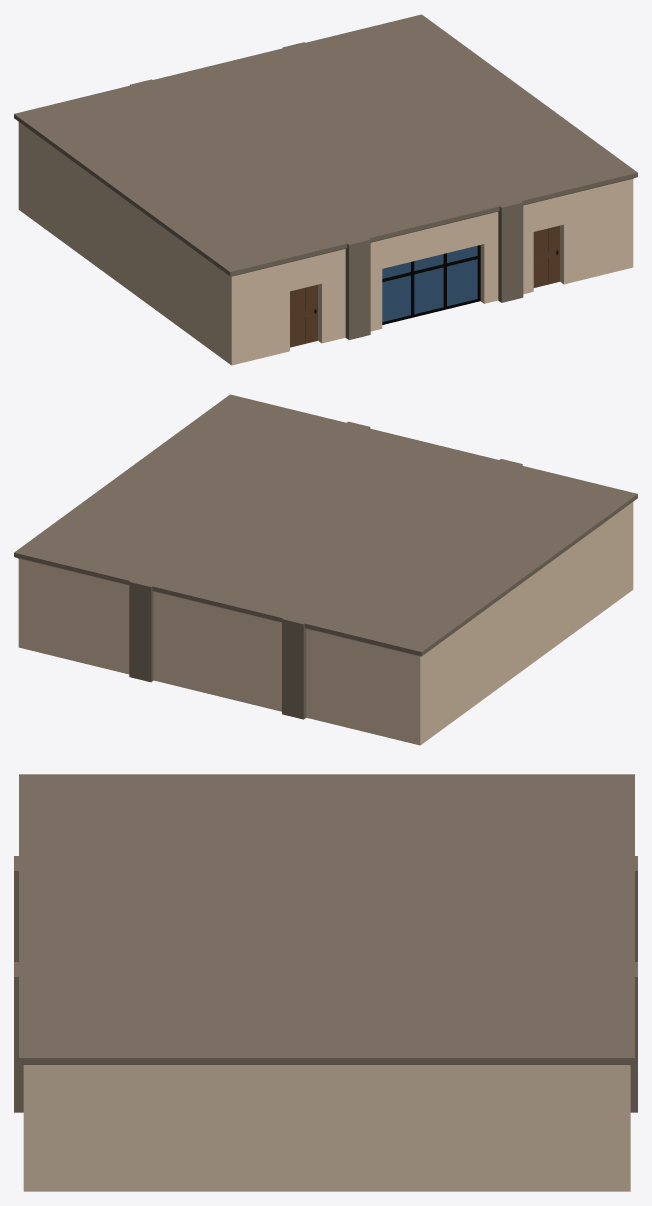
The model's file is Apt7_Base.fbx.
3 renders of one model, top to bottom at view 1: azimuth 30°, elevation 25°; view 2: azimuth 150°, elevation 25°; view 3: azimuth 270°, elevation 25°, orthographic. The views are drawn at different scales.
Parts seen in each view (by area): view 1: Apt7_Base_Border, Apt7_Base_Main, Apt7_Base_Pllars, Apt7_Base_Windows, Apt7_Base_Door, Apt7_Base_Frame; view 2: Apt7_Base_Border, Apt7_Base_Main, Apt7_Base_Pllars; view 3: Apt7_Base_Border, Apt7_Base_Main, Apt7_Base_Pllars.
Part boxes in pixels (<box>): Apt7_Base_Border: <box>14,14,637,276</box>; Apt7_Base_Main: <box>18,122,633,365</box>; Apt7_Base_Pllars: <box>130,42,523,339</box>; Apt7_Base_Windows: <box>382,245,477,321</box>; Apt7_Base_Door: <box>290,225,559,347</box>; Apt7_Base_Frame: <box>382,245,480,324</box>; Apt7_Base_Border: <box>14,394,637,656</box>; Apt7_Base_Main: <box>18,502,633,745</box>; Apt7_Base_Pllars: <box>129,421,522,719</box>; Apt7_Base_Border: <box>19,774,634,1064</box>; Apt7_Base_Main: <box>23,1065,630,1191</box>; Apt7_Base_Pllars: <box>14,856,637,1112</box>.
Bounding box in the file's own units: 1568 × 350 × 1458.
